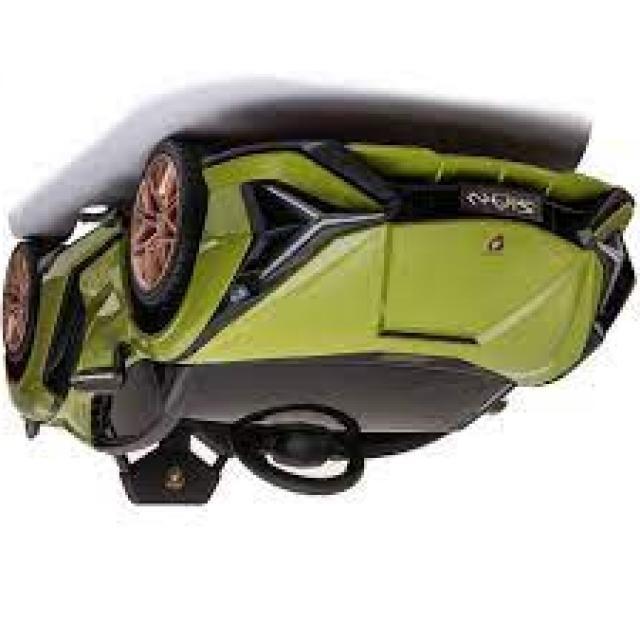Car: (3, 134, 640, 509)
